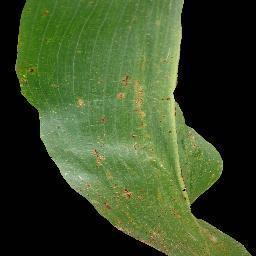Corn_Common_Rust: (177, 150, 230, 256), (117, 185, 177, 253), (90, 142, 117, 221), (113, 71, 151, 125), (139, 154, 174, 181), (14, 63, 37, 97), (178, 124, 197, 151), (130, 133, 151, 155), (230, 238, 254, 256), (158, 52, 179, 67), (72, 96, 89, 113), (158, 92, 177, 102), (39, 6, 54, 18), (171, 102, 181, 119), (99, 112, 110, 126)
